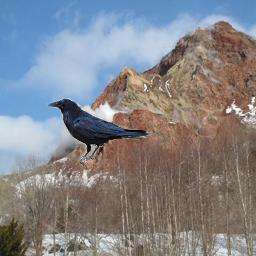Crow: (46, 98, 150, 163)
